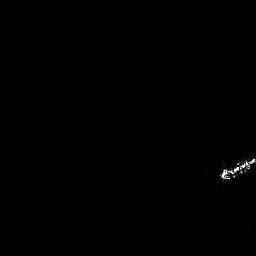ship: (219, 155, 256, 182)
